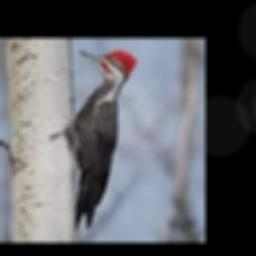Woodpecker: (67, 50, 136, 231)
